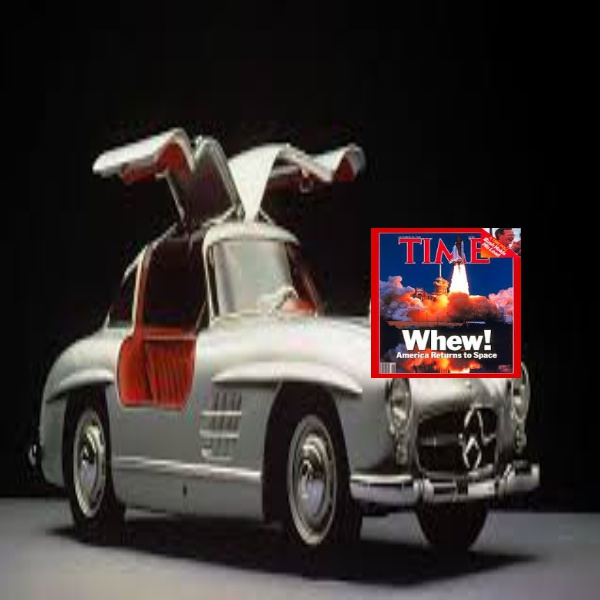time_cover: (364, 219, 526, 380)
